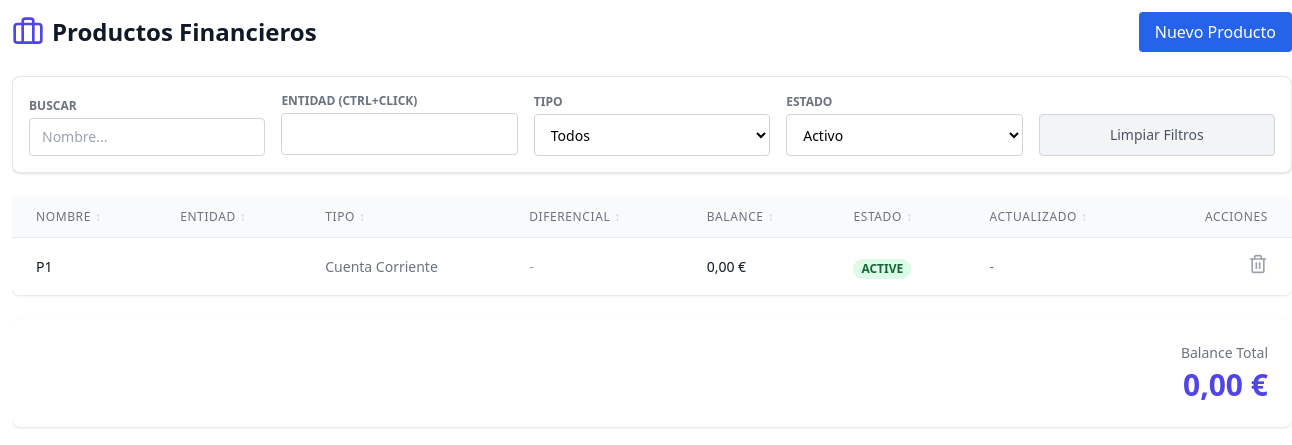
Test: ProductsPage › renders sort icons for differential column
Note: Click 1: Asc
Click the column heading "Diferencial ↕". click: (594, 217)
box: [505, 197, 683, 238]
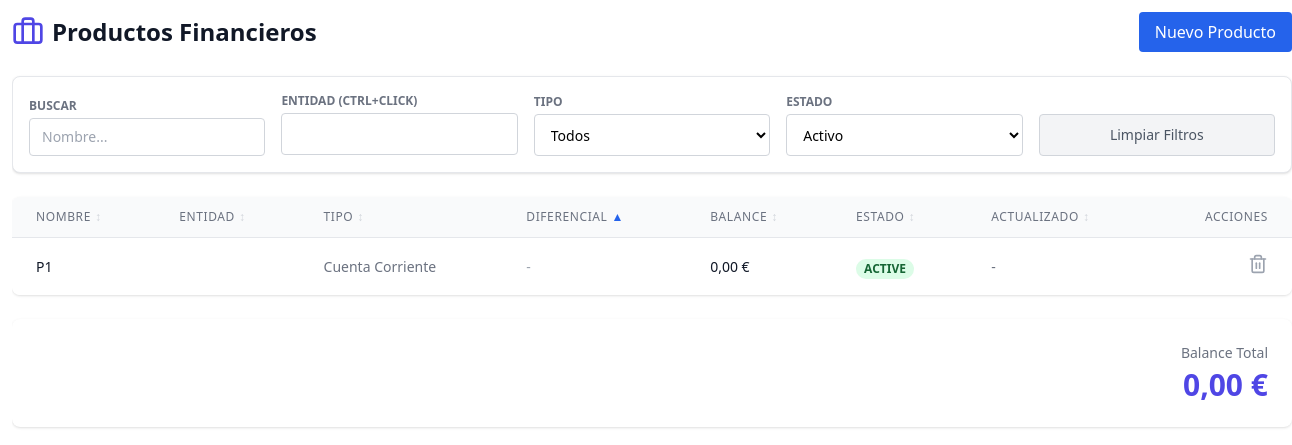
Check: the text "▲" is shown, box [612, 209, 624, 225]
